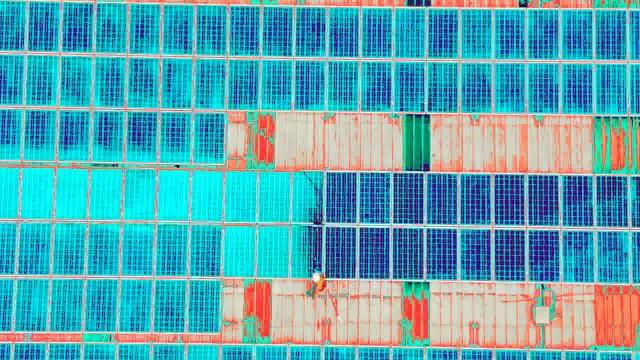dirty: (226, 57, 261, 111), (190, 55, 225, 109), (194, 110, 229, 164), (159, 109, 194, 163), (161, 56, 196, 110), (126, 57, 161, 111), (91, 54, 126, 108), (54, 52, 89, 106), (21, 52, 56, 106), (21, 106, 56, 160), (58, 108, 93, 162), (92, 111, 127, 165), (122, 105, 157, 159), (18, 167, 53, 221), (54, 167, 89, 221), (88, 168, 123, 222), (124, 168, 159, 222), (154, 168, 189, 222), (191, 166, 226, 220), (222, 168, 257, 222), (255, 169, 290, 223), (286, 168, 321, 222), (286, 225, 321, 279), (253, 221, 288, 275), (218, 223, 253, 277), (182, 221, 217, 275), (153, 222, 188, 276), (117, 221, 152, 275), (85, 221, 120, 275), (47, 223, 82, 277), (17, 221, 52, 275), (12, 277, 47, 331), (49, 275, 84, 329), (81, 277, 116, 331), (115, 278, 150, 332), (149, 275, 184, 329), (185, 280, 220, 334)
semi: (323, 169, 362, 226), (323, 219, 362, 276), (357, 226, 396, 283), (382, 227, 421, 284), (417, 225, 456, 282), (455, 227, 494, 284), (490, 228, 529, 285), (523, 229, 562, 286), (552, 228, 591, 285), (600, 227, 639, 284), (595, 172, 634, 229), (553, 170, 592, 227), (520, 170, 559, 227), (485, 170, 524, 227), (455, 171, 494, 228), (421, 167, 460, 224), (386, 168, 425, 225), (355, 167, 394, 224), (62, 1, 95, 51), (91, 2, 124, 52), (162, 4, 195, 54), (194, 5, 227, 55), (225, 6, 258, 56), (262, 8, 295, 58), (297, 9, 330, 59), (327, 9, 360, 59), (359, 8, 392, 58), (394, 7, 427, 57), (427, 9, 460, 59), (460, 10, 493, 60), (494, 11, 527, 61), (525, 10, 558, 60), (560, 10, 593, 60), (591, 6, 624, 56), (596, 61, 629, 111), (560, 62, 593, 112), (528, 63, 561, 113), (491, 61, 524, 111), (460, 64, 493, 114), (426, 62, 459, 112), (394, 62, 427, 112), (359, 60, 392, 110), (323, 60, 356, 110), (295, 60, 328, 110), (258, 57, 291, 107), (27, 1, 60, 50), (124, 1, 157, 50)
